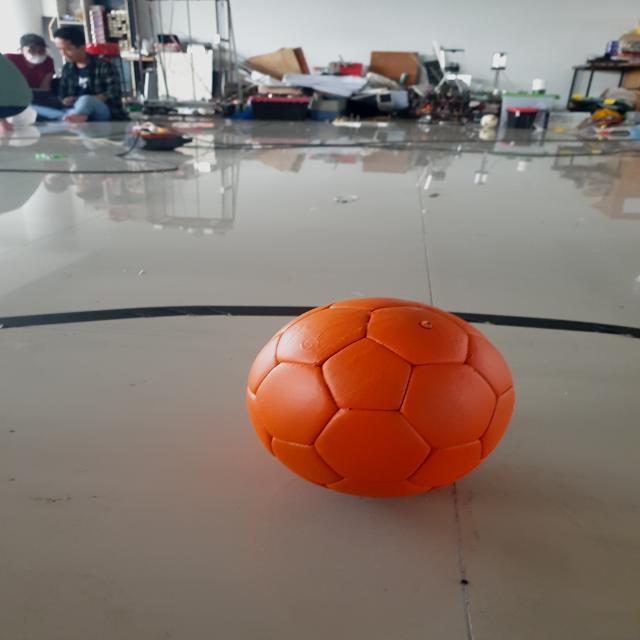bola: (240, 293, 524, 508)
